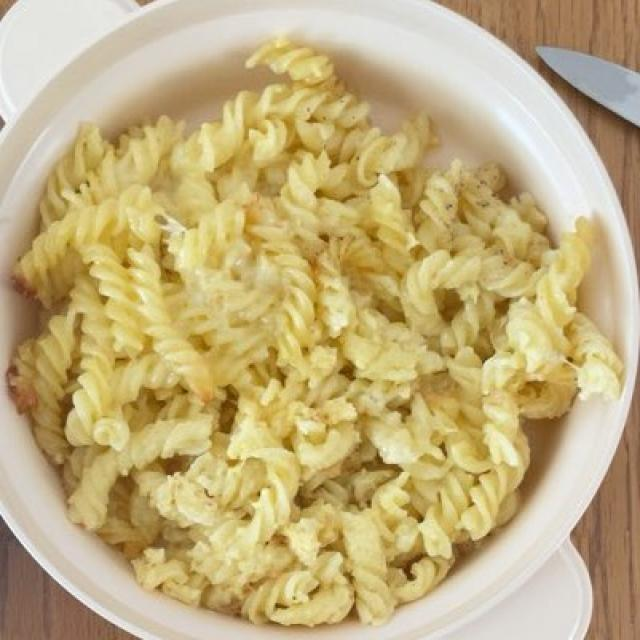pasta: (22, 57, 599, 617)
